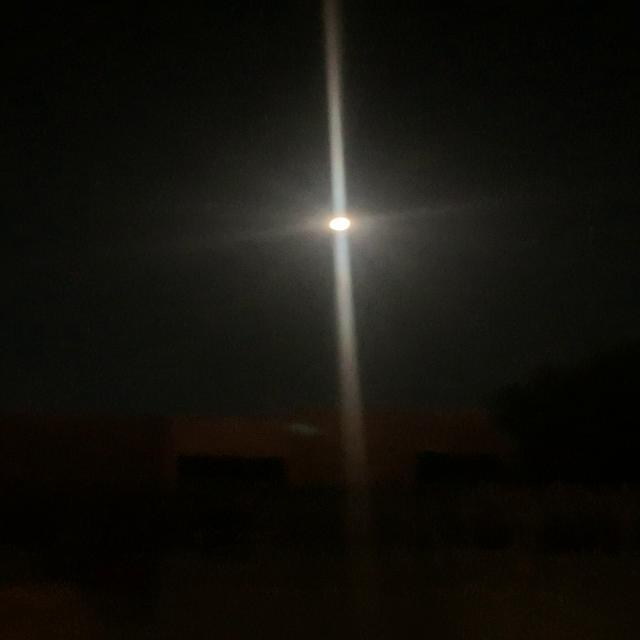moon: (314, 207, 378, 240)
